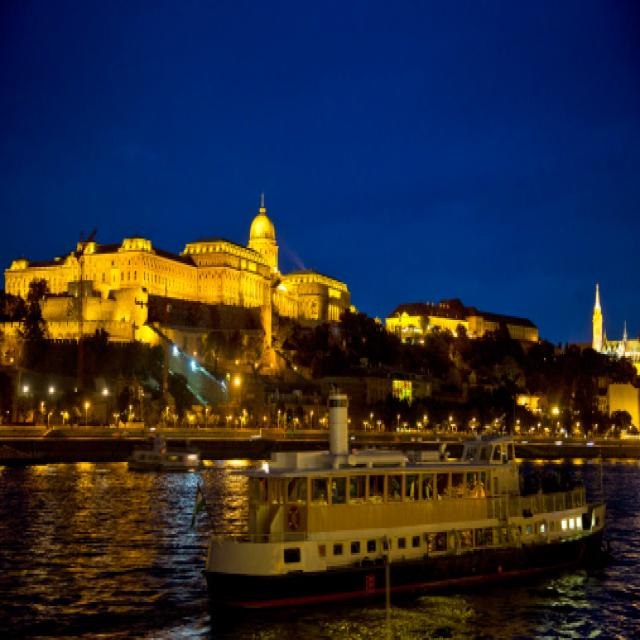Boat: (180, 439, 611, 628)
